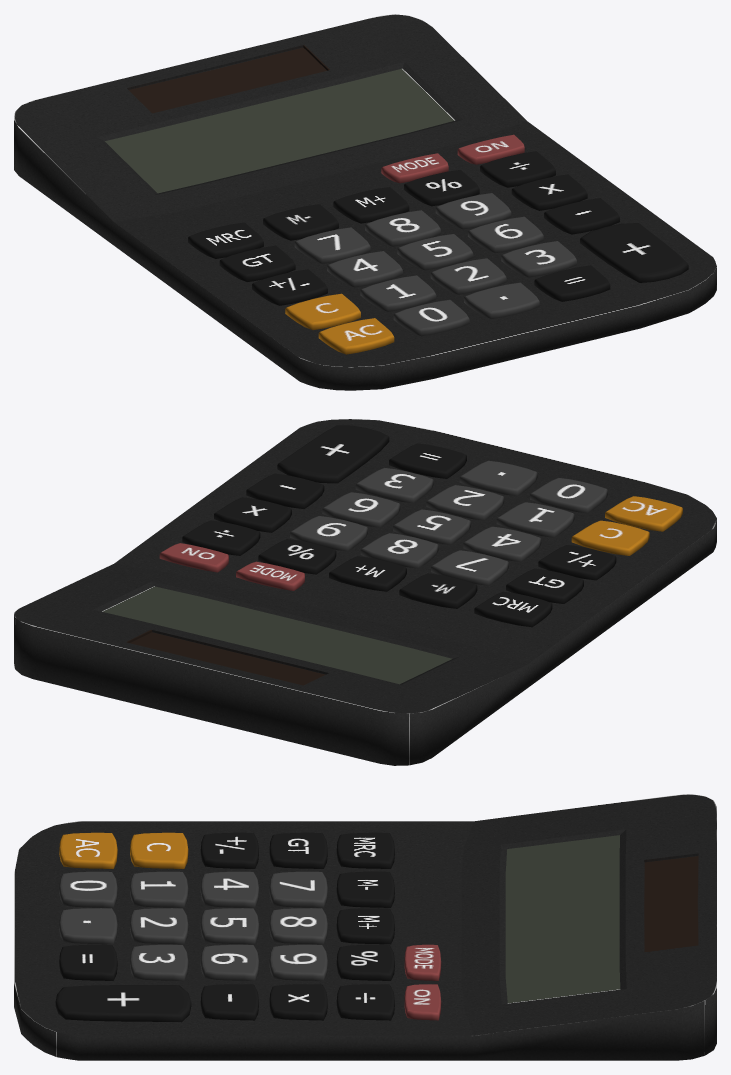
The model's file is accumulator.fbx.
The picture shows the model from 3 angles, top to bottom: view 1: azimuth 30°, elevation 25°; view 2: azimuth 150°, elevation 25°; view 3: azimuth 270°, elevation 25°; orthographic projection. The views are drawn at different scales.
Visible parts, largest first — view 1: Calculadora; view 2: Calculadora; view 3: Calculadora.
Boxes of the visible parts, <box> form: Calculadora: <box>14,14,716,390</box>; Calculadora: <box>14,419,716,765</box>; Calculadora: <box>14,794,716,1060</box>.
Size of the model in its own units: 600 by 73.99 by 832.
1 material, 1 textured.
